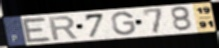7: (141, 6, 164, 35), (82, 13, 107, 38)
8: (170, 5, 194, 33)
E: (20, 17, 54, 44)
G: (111, 11, 137, 36)
R: (47, 15, 80, 41)
